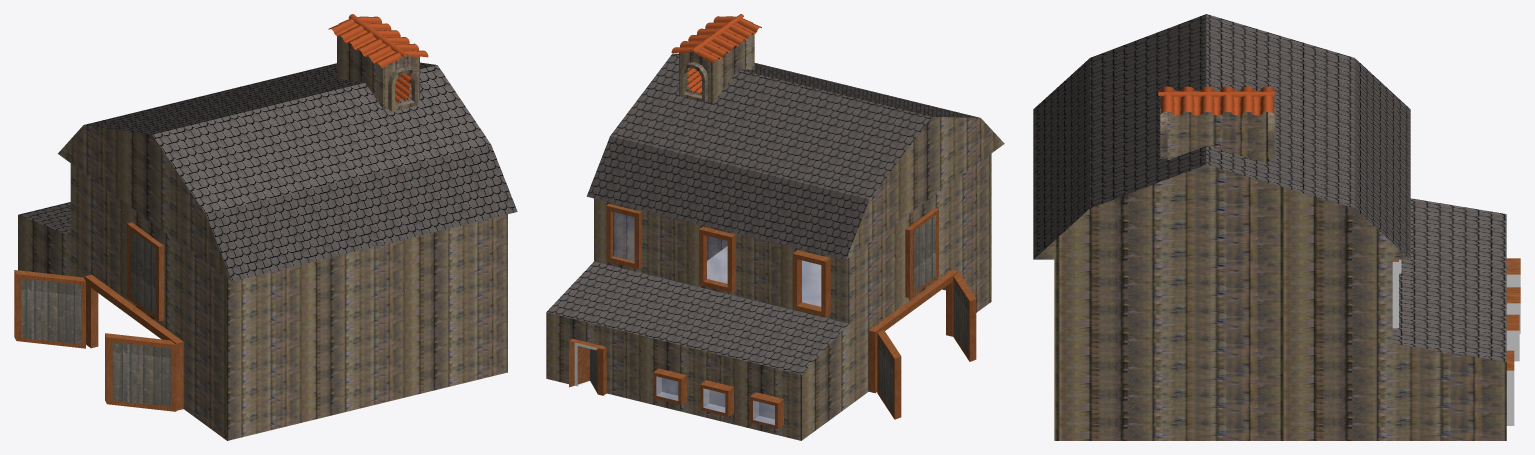
Rendered from building_bom1.obj.
3 renders of one model, left to right at view 1: azimuth 30°, elevation 25°; view 2: azimuth 150°, elevation 25°; view 3: azimuth 270°, elevation 25°, orthographic. The views are drawn at different scales.
Parts seen in each view (by area): view 1: Mesh114 ske73A1 Model, Mesh115 ske73A1 Model, Mesh117 ske73A1 Model, Mesh116 ske73A1 Model, Mesh113 Redtile_Chimneytop1 ske73A1 Model, Mesh64 Component_8_2 Redtile_Chimneytop1 ske73A1 Model; view 2: Mesh114 ske73A1 Model, Mesh115 ske73A1 Model, Mesh113 Redtile_Chimneytop1 ske73A1 Model, Mesh117 ske73A1 Model, Mesh116 ske73A1 Model, Mesh32 Component_8_1 Redtile_Chimneytop1 ske73A1 Model; view 3: Mesh114 ske73A1 Model, Mesh115 ske73A1 Model, Mesh113 Redtile_Chimneytop1 ske73A1 Model.
Boxes of the visible parts, left/top/right/bottom form: Mesh114 ske73A1 Model: left=18, top=163, right=507, bottom=440; Mesh115 ske73A1 Model: left=58, top=62, right=517, bottom=281; Mesh117 ske73A1 Model: left=14, top=270, right=85, bottom=348; Mesh116 ske73A1 Model: left=105, top=333, right=176, bottom=411; Mesh113 Redtile_Chimneytop1 ske73A1 Model: left=337, top=25, right=419, bottom=109; Mesh64 Component_8_2 Redtile_Chimneytop1 ske73A1 Model: left=388, top=67, right=418, bottom=111; Mesh114 ske73A1 Model: left=546, top=153, right=991, bottom=440; Mesh115 ske73A1 Model: left=586, top=53, right=1004, bottom=259; Mesh113 Redtile_Chimneytop1 ske73A1 Model: left=679, top=24, right=754, bottom=103; Mesh117 ske73A1 Model: left=877, top=330, right=901, bottom=419; Mesh116 ske73A1 Model: left=953, top=272, right=976, bottom=361; Mesh32 Component_8_1 Redtile_Chimneytop1 ske73A1 Model: left=680, top=62, right=707, bottom=102; Mesh114 ske73A1 Model: left=1054, top=198, right=1520, bottom=440; Mesh115 ske73A1 Model: left=1033, top=14, right=1410, bottom=259; Mesh113 Redtile_Chimneytop1 ske73A1 Model: left=1167, top=97, right=1267, bottom=163.
Bounding box in the file's own units: 325 × 275 × 378.
